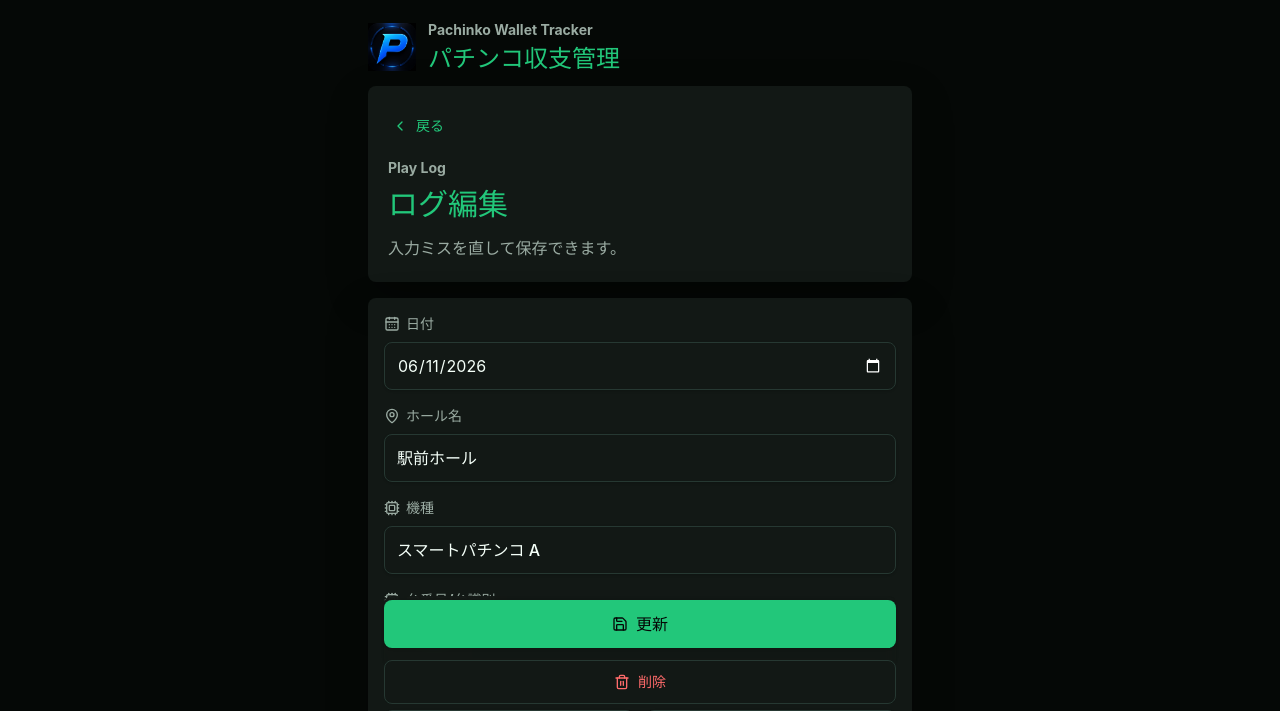
Scenario: log form › returns from the edit log form to the log list
Expected: the field showing "駅前ホール" is shown, [384,434,896,482]
Click the link with aria-label "ログ一覧へ戻る".
click(418, 126)  # box [392,117,444,134]
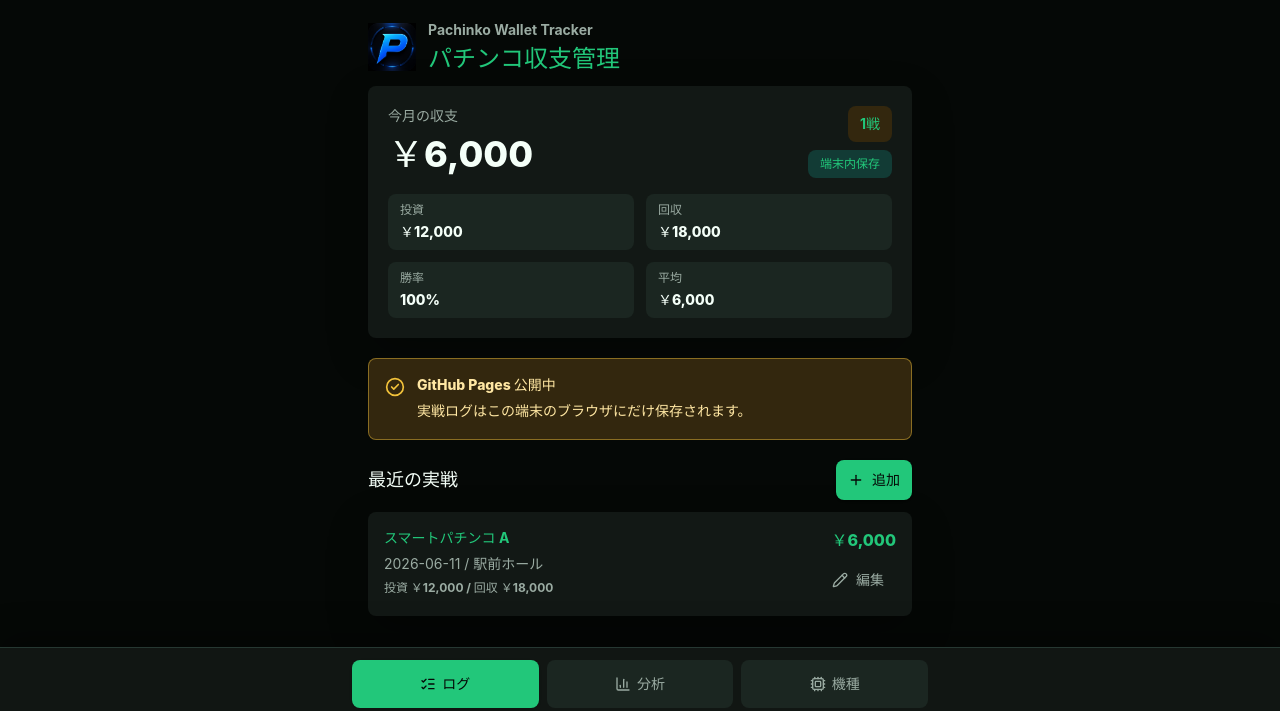
Expected: the heading "最近の実戦" is shown, [368,466,458,494]
Expected: the text "2026-06-11 / 駅前ホール" is shown, [384,552,553,576]
